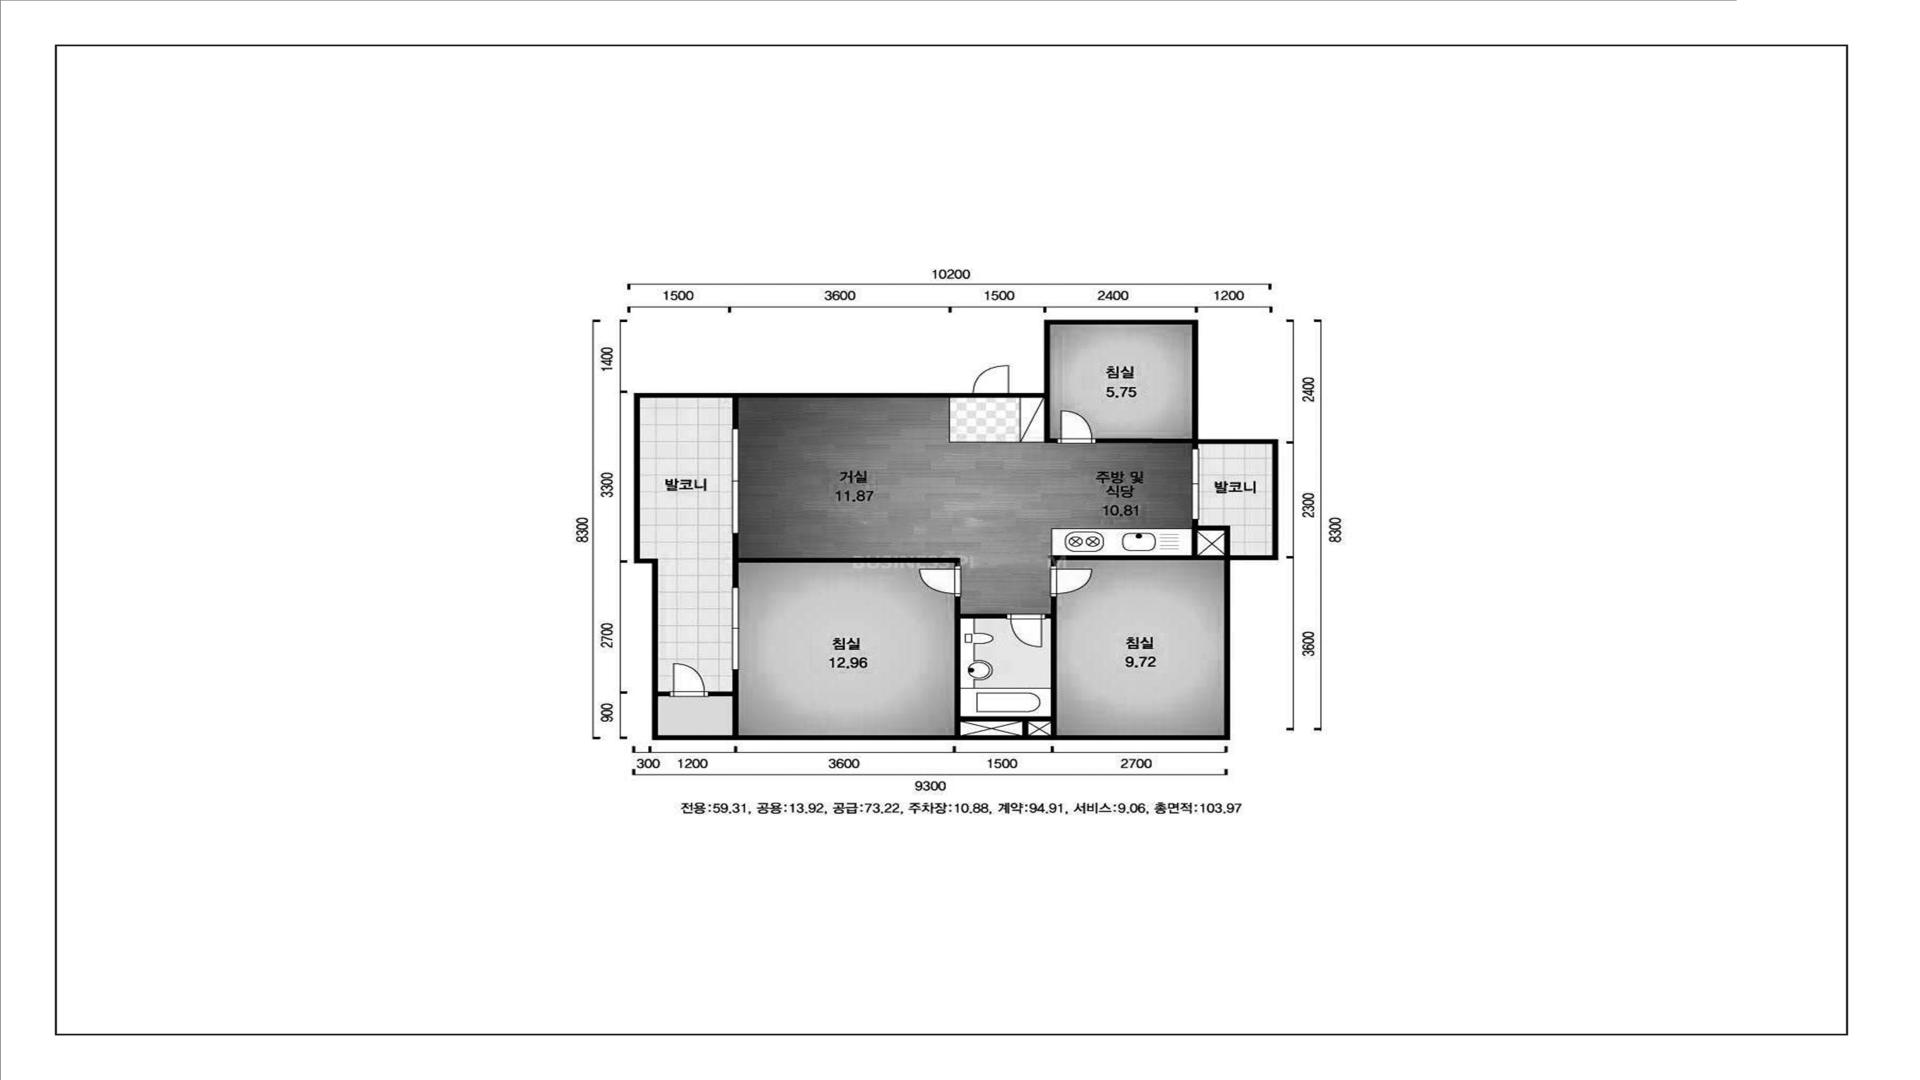door: (1056, 409, 1096, 444), (1006, 613, 1046, 649), (1050, 566, 1093, 597), (670, 662, 708, 698), (971, 364, 1010, 398), (919, 566, 961, 597)
wall: (634, 320, 1278, 740), (955, 597, 1056, 735), (733, 534, 960, 587), (1051, 520, 1230, 566), (709, 670, 738, 735), (1044, 397, 1056, 443), (1097, 438, 1192, 443), (733, 398, 738, 429), (658, 691, 670, 696), (1192, 444, 1197, 448)
window: (732, 429, 738, 534), (1191, 448, 1199, 520), (732, 587, 738, 670)
